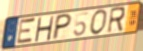5: (72, 11, 89, 38)
E: (15, 17, 37, 46)
H: (34, 15, 55, 42)
O: (89, 8, 109, 36)
P: (51, 13, 74, 42)
R: (106, 5, 127, 35)
